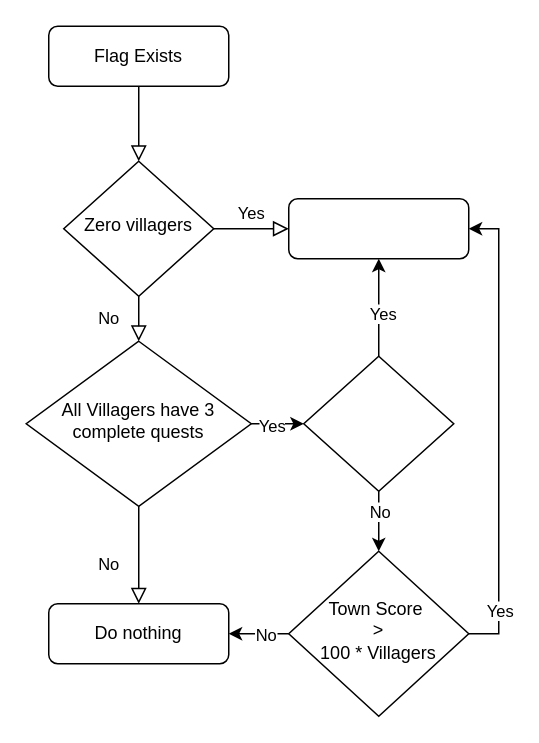
The diagram is 539 pixels wide and 743 high, and some of its shapes have lost their labels. Here are the shapes that lost their labels. From the top down, the centre of each, then its label:
point (378, 228): Spawn Visitor
point (378, 423): <2 villagers
